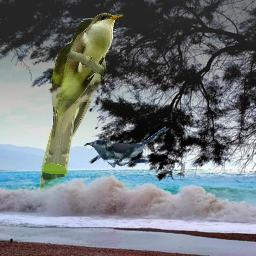Cuckoo: (39, 18, 117, 192), (53, 12, 124, 117), (84, 126, 169, 168)
